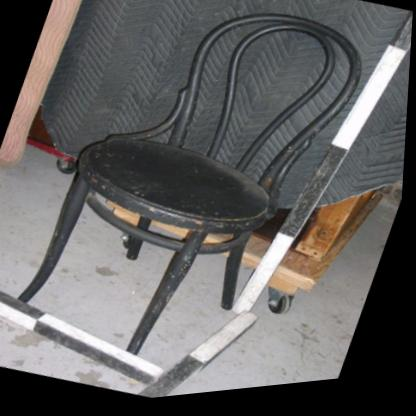Chair: (0, 0, 390, 408)
